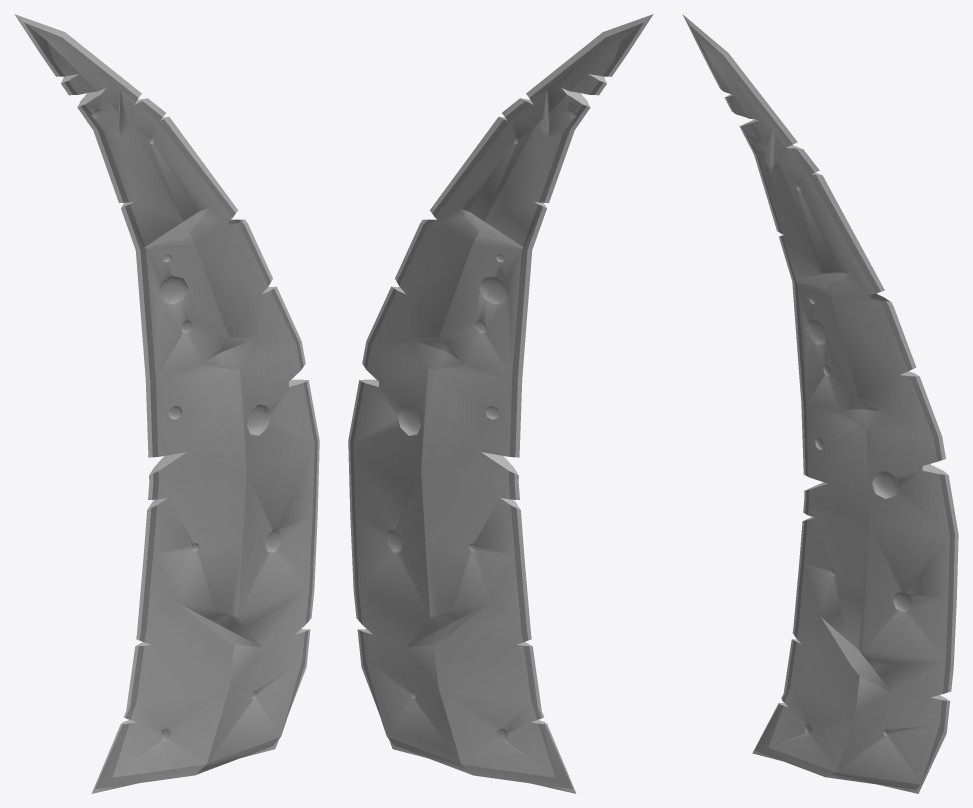
The model's file is stone_blade_bubbles_053.glb.
3 renders of one model, left to right at view 1: azimuth 30°, elevation 25°; view 2: azimuth 150°, elevation 25°; view 3: azimuth 330°, elevation 25°, orthographic. The views are drawn at different scales.
Parts seen in each view (by area): view 1: stone_blade_bubbles.053; view 2: stone_blade_bubbles.053; view 3: stone_blade_bubbles.053.
Boxes of the visible parts, left/top/right/bottom form: stone_blade_bubbles.053: left=14, top=14, right=319, bottom=793; stone_blade_bubbles.053: left=348, top=14, right=653, bottom=793; stone_blade_bubbles.053: left=682, top=14, right=958, bottom=793.
Bounding box in the file's own units: 4.91 × 12.29 × 0.7262.
1 material, 1 textured.
